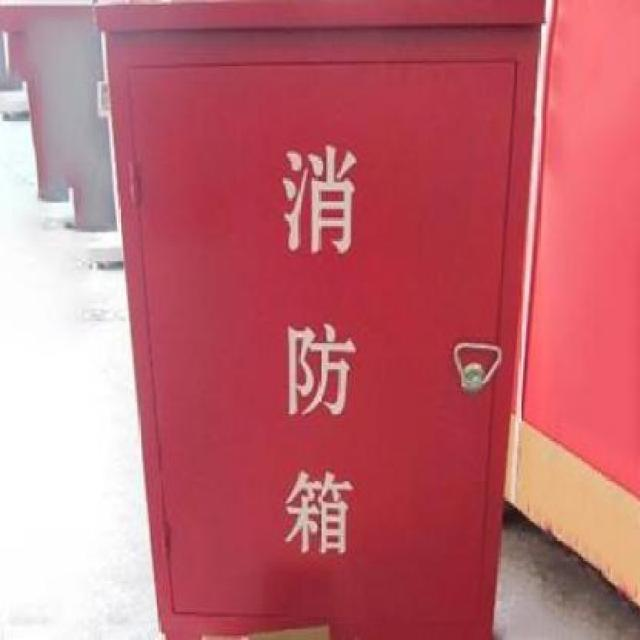firehydrant: (92, 0, 560, 640)
